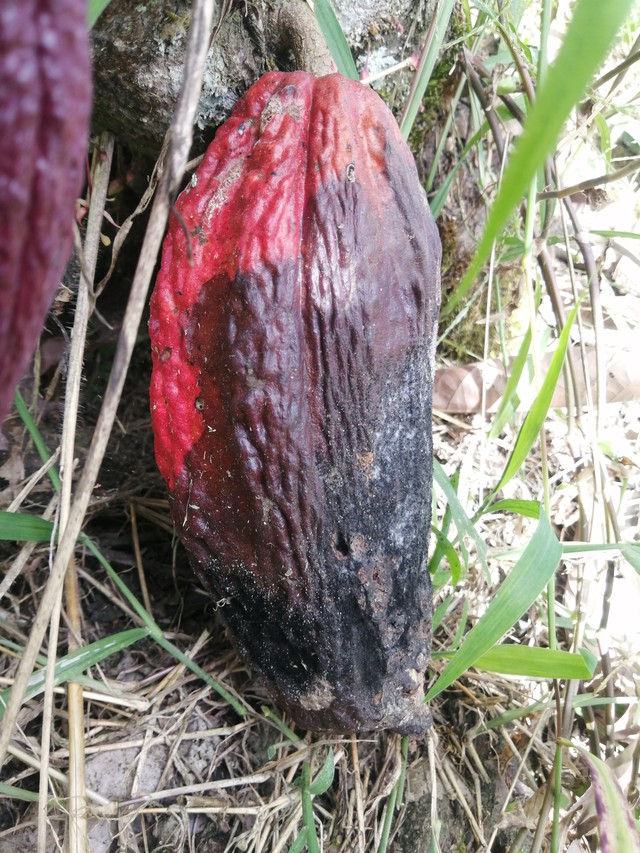moniliophthora roreri: (123, 52, 460, 749)
